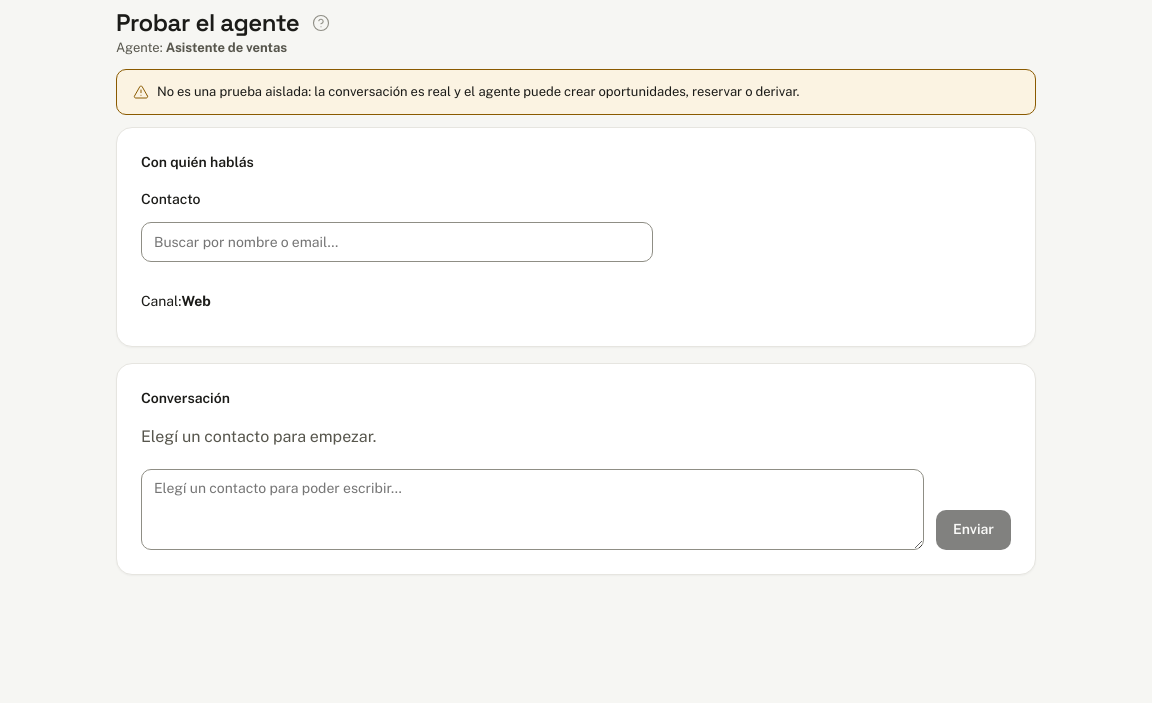
Scenario: AgentPlaygroundPage — mandar un mensaje › handoff: true muestra la nota de derivación y el link a la actividad creada
Check: the text "No es una prueba aislada" is shown, box [157,84,800,99]
Type "Jua" into the field with placeholder "Buscar por nombre o email…" at [397, 242], box [141,222,653,262]
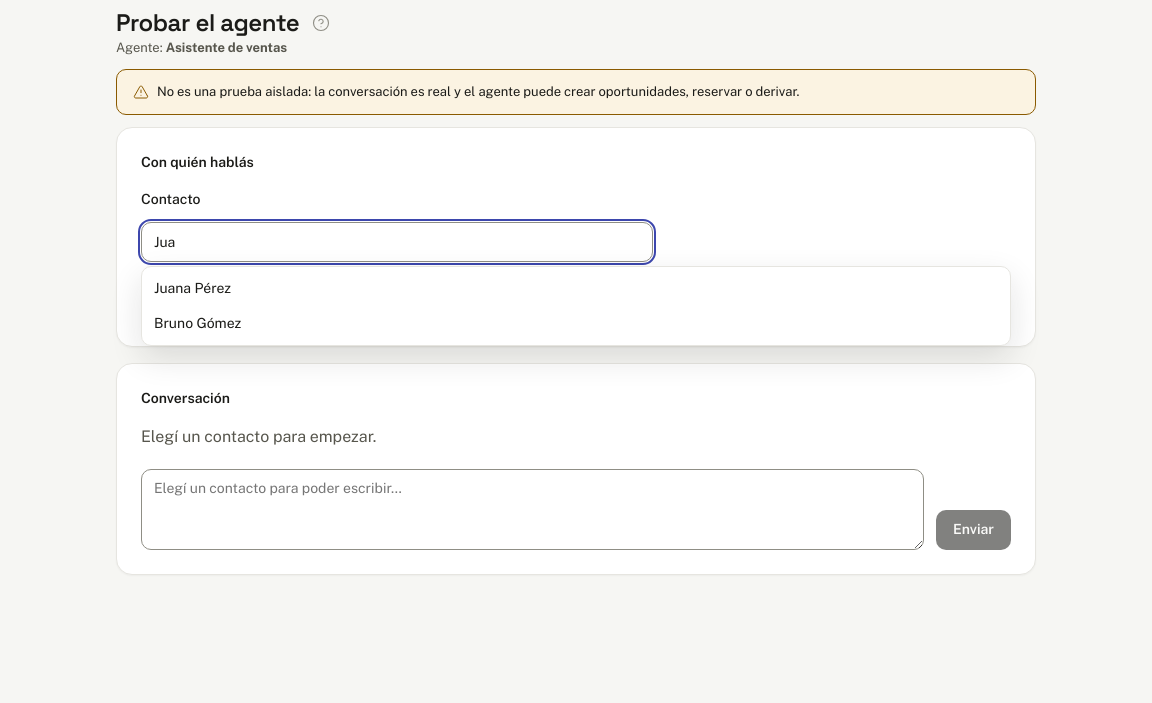
Click the button "Juana Pérez" at [193, 288], box [142,271,1010,306]
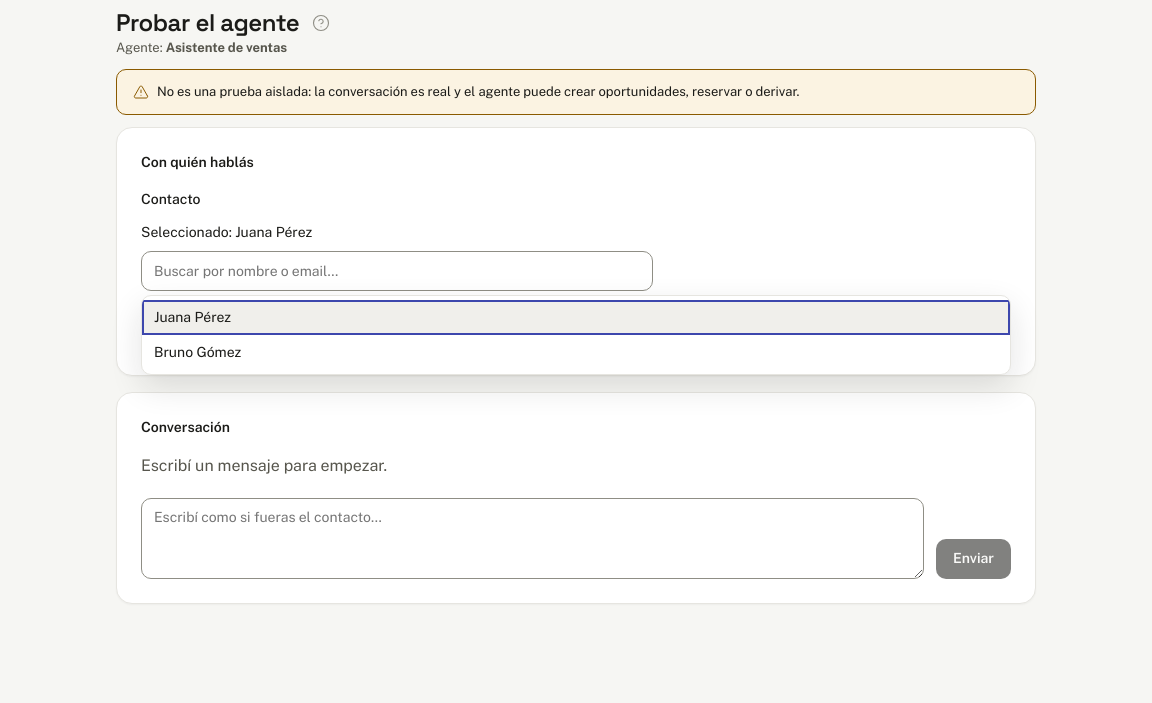
Check: the text box named "Mensaje del contacto" is enabled
Type "quiero hablar con una persona" into the text box named "Mensaje del contacto" at [533, 538], box [141,498,924,579]
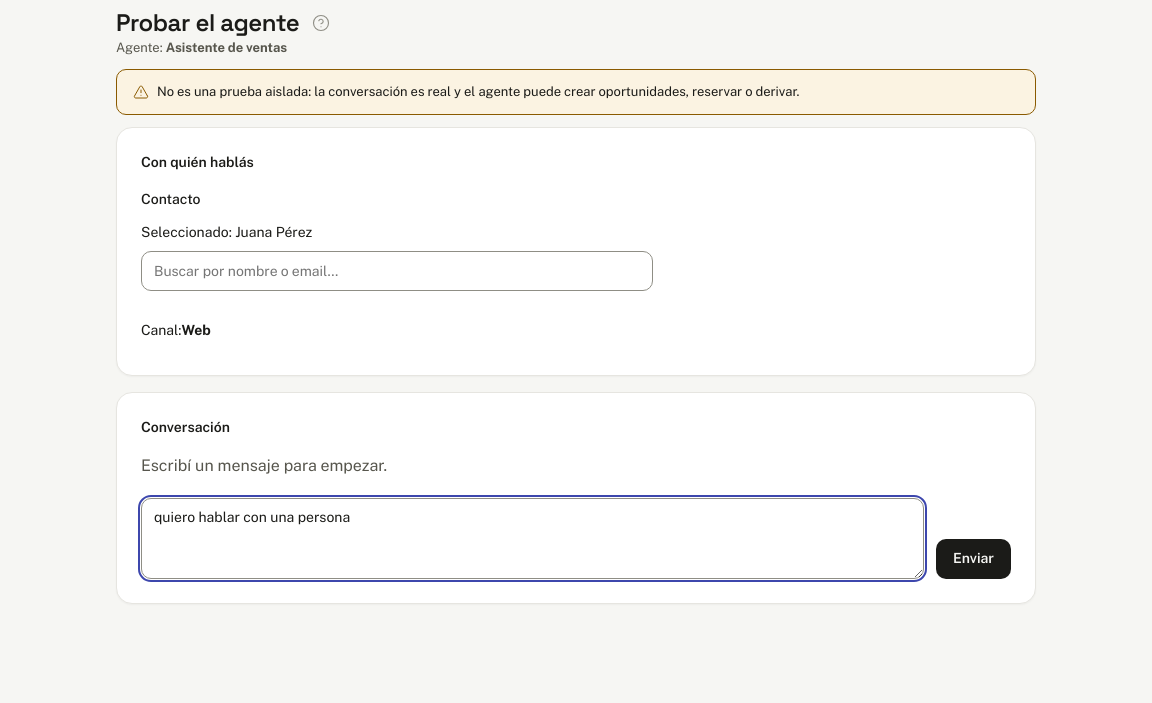
Click the button "Enviar" at [974, 559], box [936,539,1011,579]
(page scrolled)
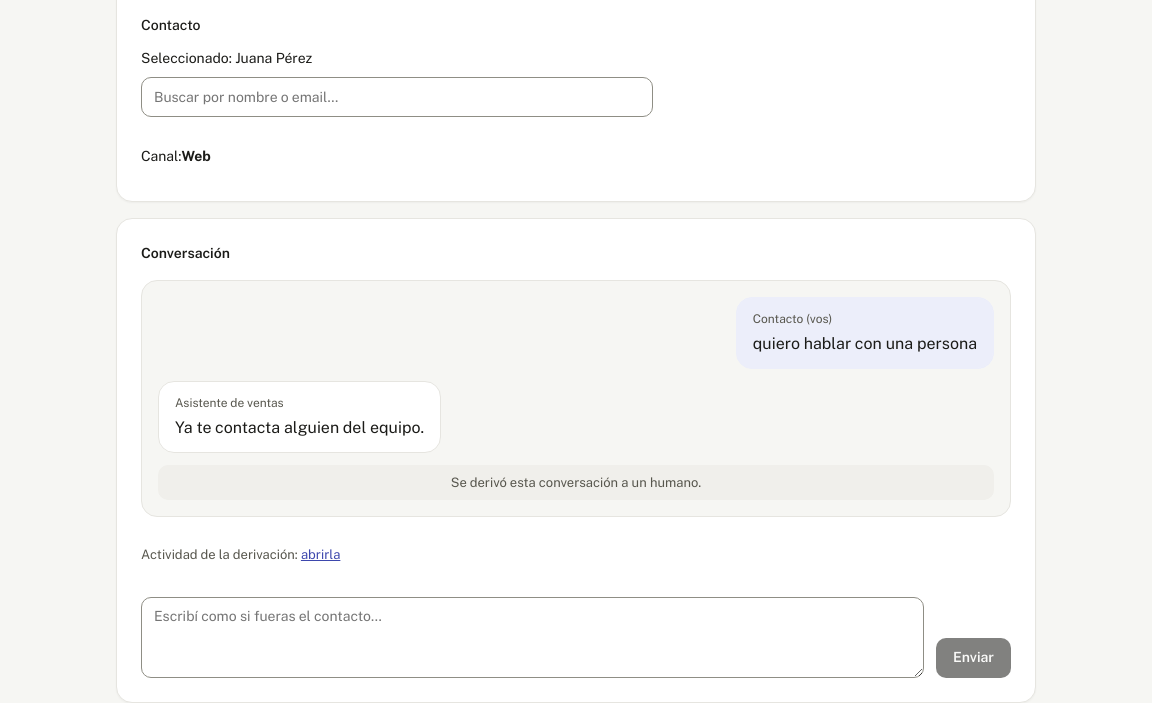
Check: the text "Se derivó esta conversación a un humano." is shown, box [158,465,994,500]
